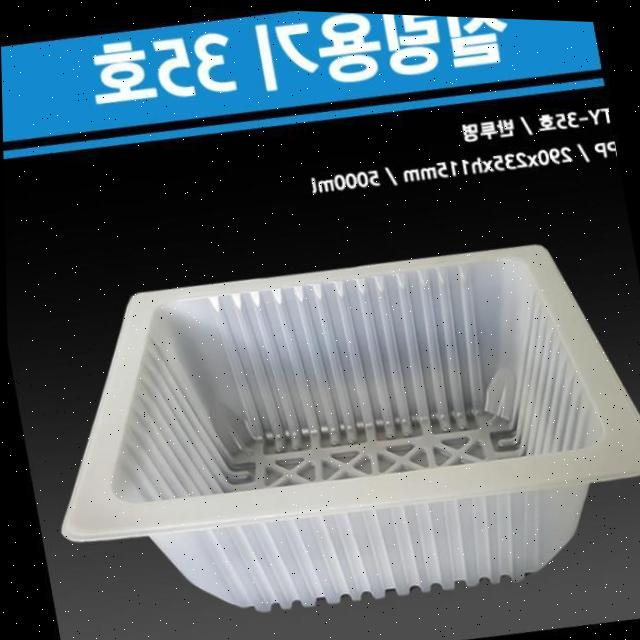disposable: (37, 227, 640, 628)
